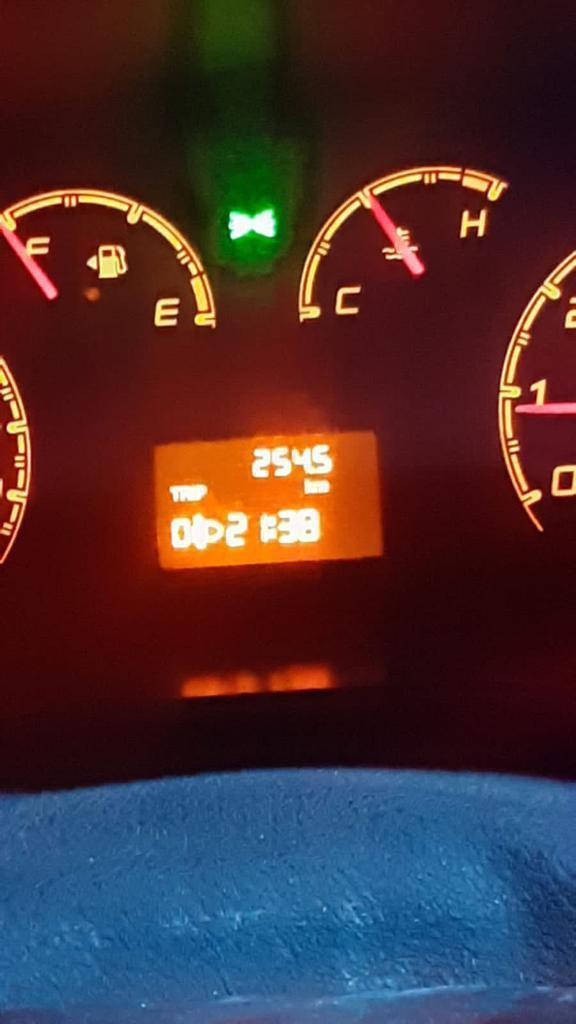0: (169, 516, 191, 549)
1: (258, 512, 267, 543)
2: (224, 511, 247, 547), (250, 448, 270, 478)
3: (277, 509, 297, 544)
4: (291, 446, 312, 474)
5: (312, 444, 333, 473), (271, 446, 291, 476)
8: (296, 507, 321, 543)
X: (314, 479, 331, 495), (267, 514, 277, 540), (167, 485, 180, 502), (303, 477, 314, 496), (180, 485, 190, 503), (196, 484, 206, 501), (191, 484, 195, 503)
odometer: (149, 428, 386, 571)
